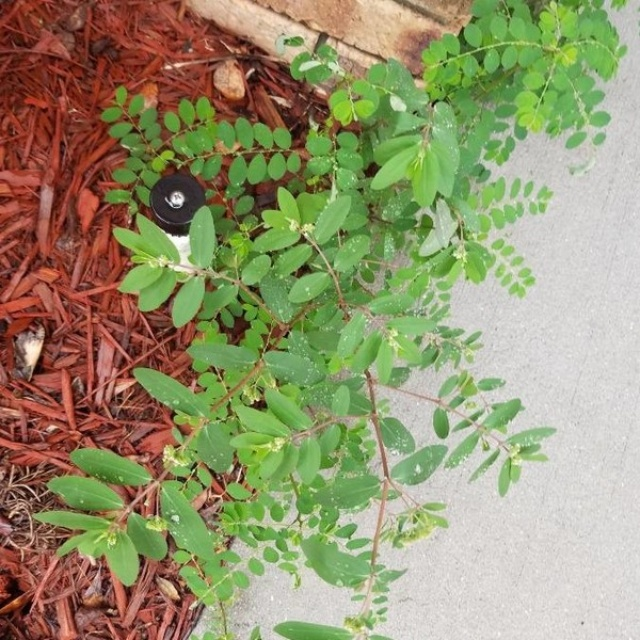obstacle: (138, 94, 525, 579)
